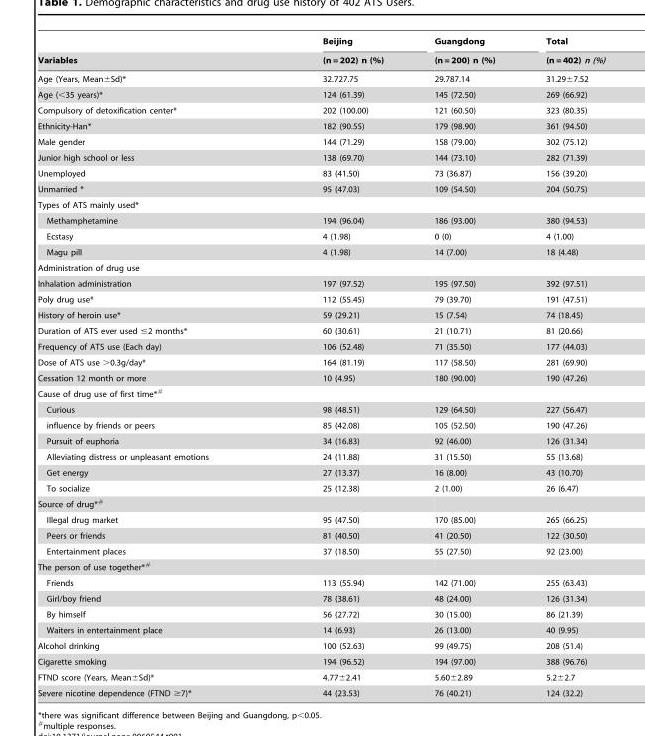table: (37, 36, 606, 697)
table column: (37, 36, 265, 697), (265, 36, 408, 697), (408, 36, 519, 697), (519, 36, 606, 697)
table column header: (37, 36, 606, 69)
table projected row header: (37, 196, 606, 212), (37, 259, 606, 275), (37, 385, 606, 401), (37, 495, 606, 511), (37, 558, 606, 574)
table row: (37, 50, 606, 69), (37, 69, 606, 86), (37, 86, 606, 102), (37, 102, 606, 118), (37, 133, 606, 149), (37, 149, 606, 165), (37, 165, 606, 181), (37, 196, 606, 212), (37, 212, 606, 228), (37, 228, 606, 244), (37, 259, 606, 275), (37, 275, 606, 291), (37, 291, 606, 307), (37, 322, 606, 338), (37, 338, 606, 354), (37, 354, 606, 370), (37, 385, 606, 401), (37, 401, 606, 417), (37, 417, 606, 433), (37, 448, 606, 464), (37, 464, 606, 480), (37, 495, 606, 511), (37, 511, 606, 527), (37, 527, 606, 543), (37, 558, 606, 574), (37, 574, 606, 590), (37, 590, 606, 606), (37, 606, 606, 622), (37, 637, 606, 653), (37, 653, 606, 669), (37, 118, 606, 133), (37, 181, 606, 196), (37, 244, 606, 259), (37, 307, 606, 322), (37, 370, 606, 385), (37, 433, 606, 448), (37, 480, 606, 495), (37, 543, 606, 558), (37, 622, 606, 637), (37, 669, 606, 684), (37, 36, 606, 50), (37, 684, 606, 697)
table spanning cell: (37, 36, 265, 69), (265, 36, 408, 69), (408, 36, 519, 69), (519, 36, 606, 69)
